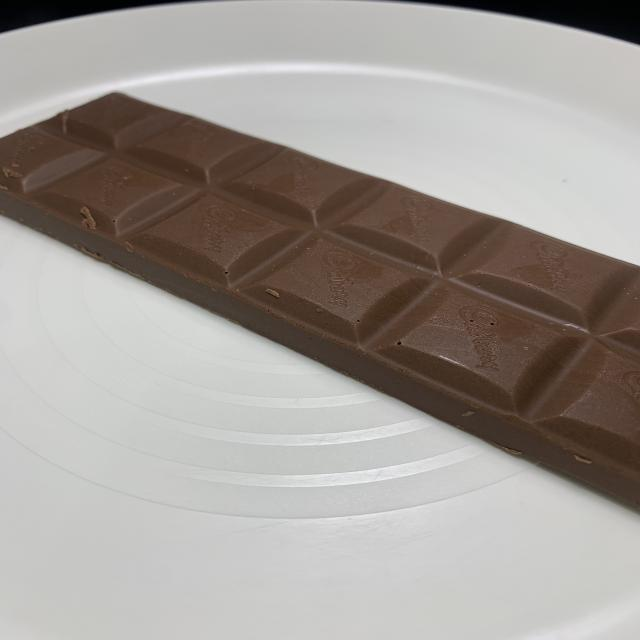Chocolate: (0, 91, 640, 519)
